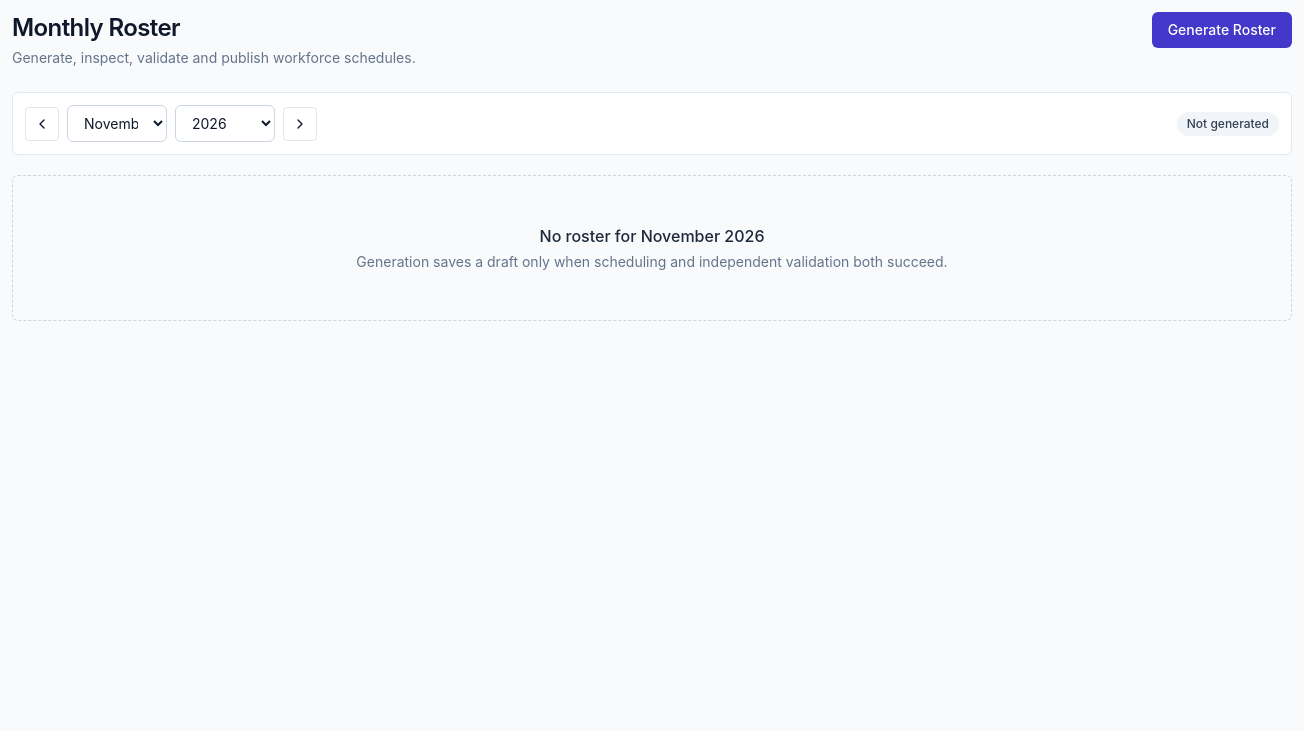
Test: Task 9 monthly roster › renders a read-only published roster with edit actions disabled
Select "December" in the dropdown named "Roster month" at (117,124), box [67,105,167,142]
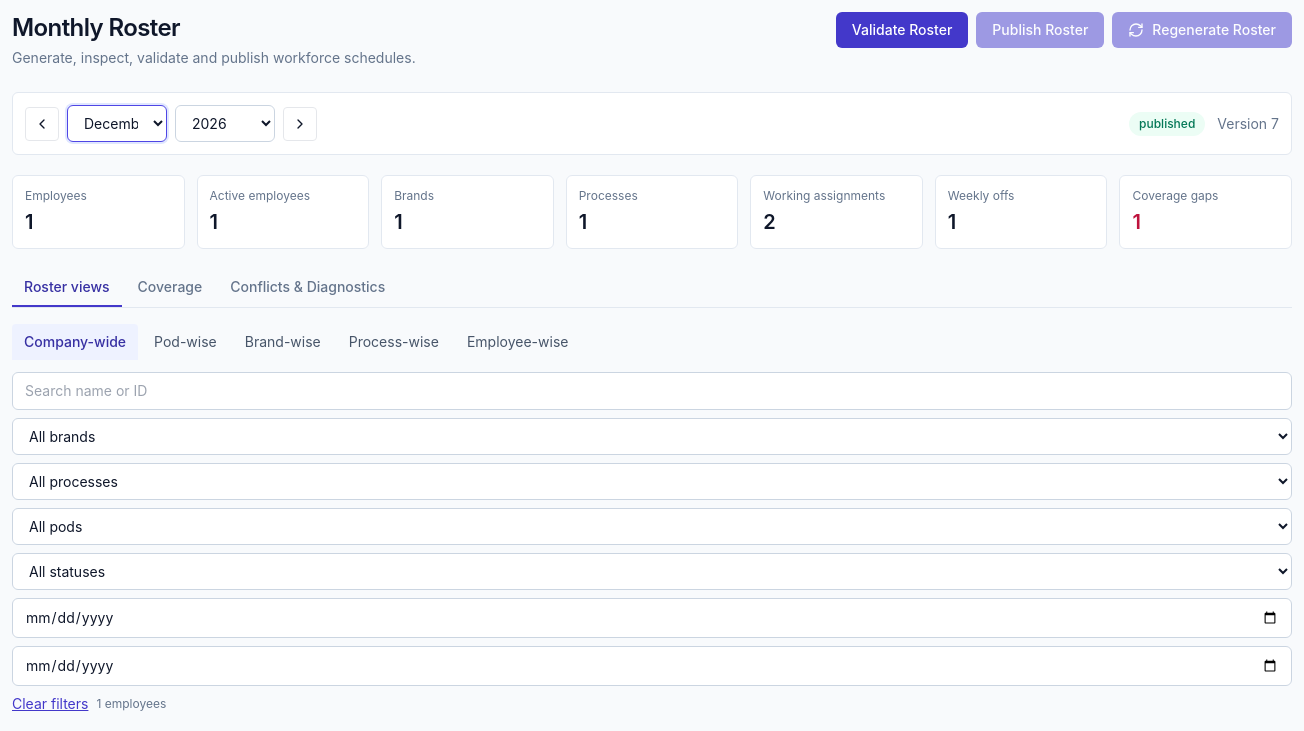
Expected: the text "published" is shown, [1129,112,1205,136]
Expected: the button "Publish Roster" is disabled, [976,12,1104,48]
Expected: the button "Regenerate Roster" is disabled, [1112,12,1292,48]
